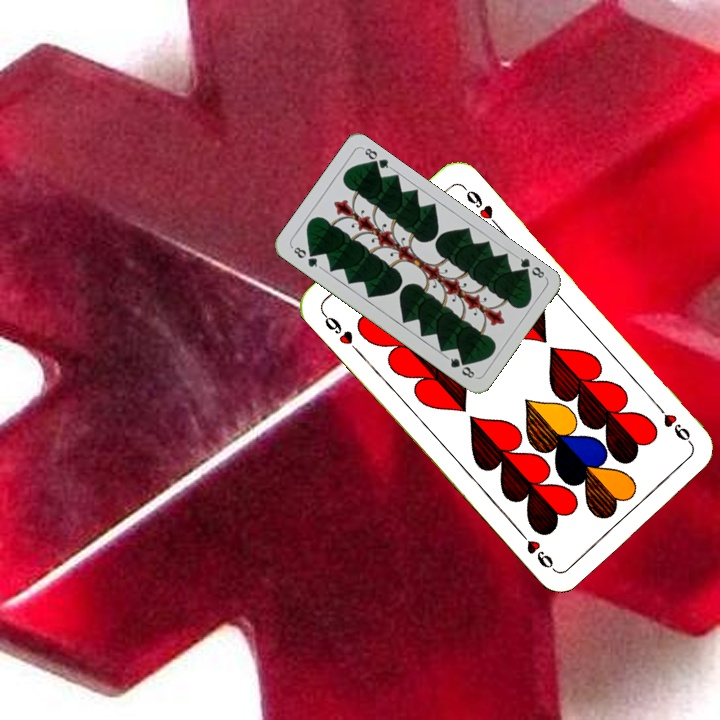G8: (288, 242, 324, 271), (513, 252, 549, 281)
H9: (318, 308, 362, 356), (651, 399, 694, 447)
